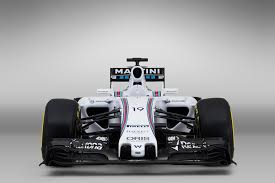FormulaOneCar: (35, 52, 241, 171)
